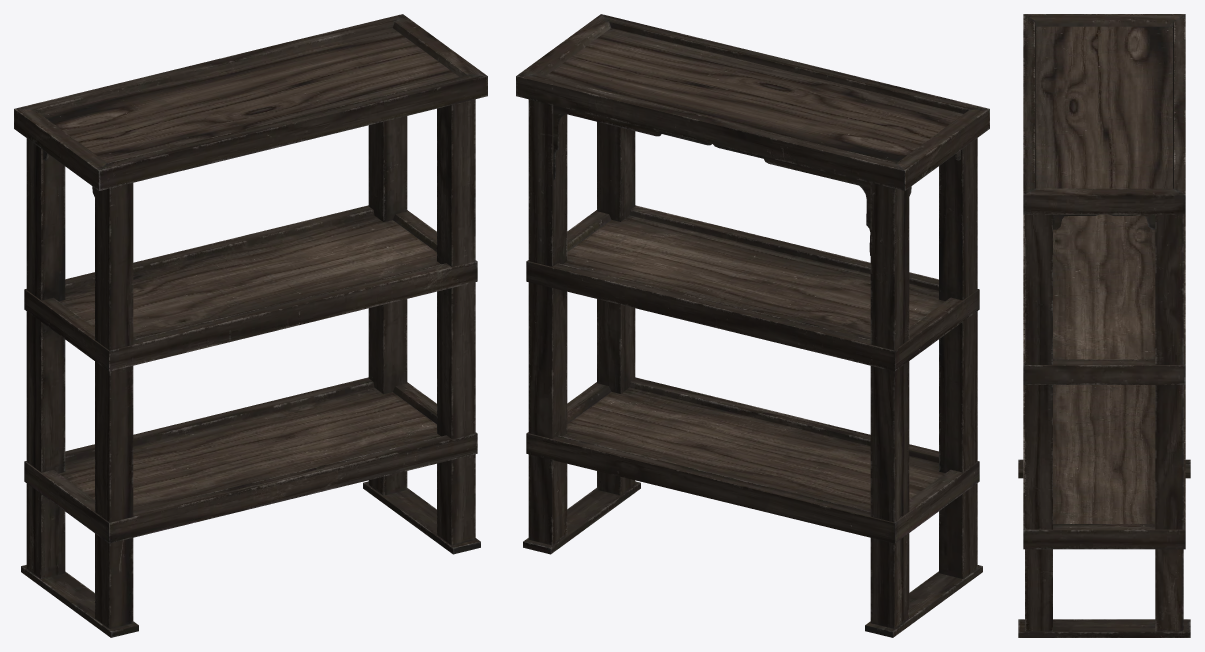
The model's file is shelf_pantry.glb.
The picture shows the model from 3 angles, left to right: view 1: azimuth 30°, elevation 25°; view 2: azimuth 150°, elevation 25°; view 3: azimuth 270°, elevation 25°; orthographic projection. The views are drawn at different scales.
Parts seen in each view (by area): view 1: SM_Pantry_Shelf_M_Pantry_Shelf_0; view 2: SM_Pantry_Shelf_M_Pantry_Shelf_0; view 3: SM_Pantry_Shelf_M_Pantry_Shelf_0.
Part boxes in pixels (left/top/right/bottom): SM_Pantry_Shelf_M_Pantry_Shelf_0: left=14, top=14, right=487, bottom=637; SM_Pantry_Shelf_M_Pantry_Shelf_0: left=516, top=14, right=989, bottom=637; SM_Pantry_Shelf_M_Pantry_Shelf_0: left=1018, top=14, right=1190, bottom=637.
Bounding box in the file's own units: 1.07 × 1.23 × 0.4296.
Materials: 1 (1 with a texture image).
